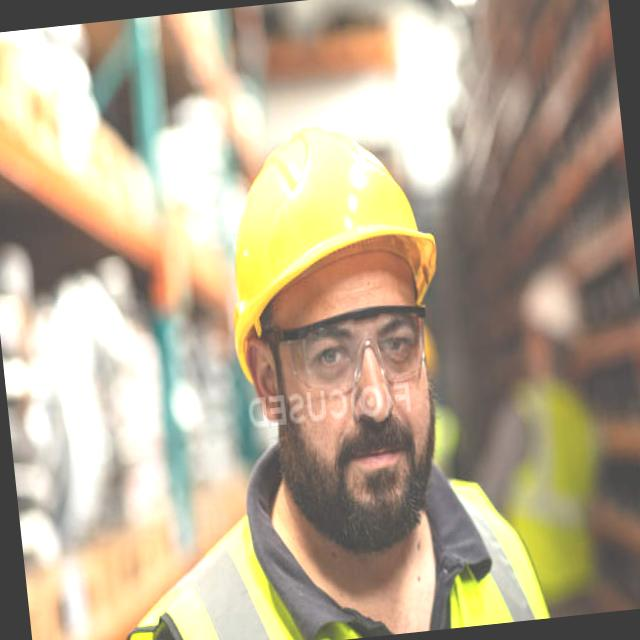goggles: (260, 296, 438, 402)
helmet: (212, 107, 453, 392)
vest: (119, 455, 541, 640)
